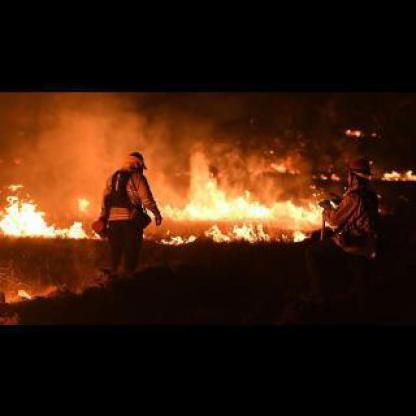fire: (143, 143, 341, 244), (2, 188, 102, 240)
